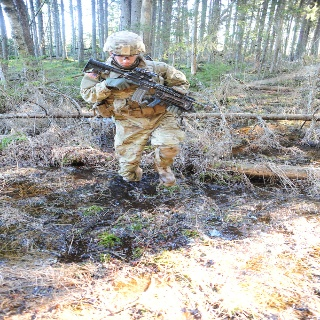rifle: (83, 58, 213, 116)
